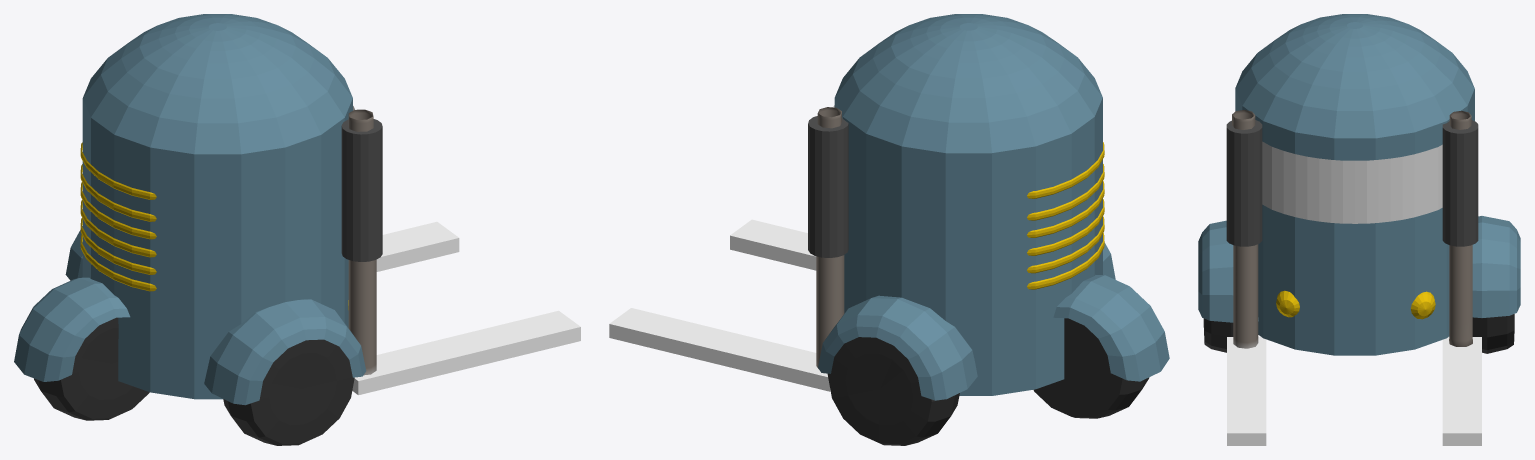
File: montacargas.fbx
The picture shows the model from 3 angles, left to right: view 1: azimuth 30°, elevation 25°; view 2: azimuth 150°, elevation 25°; view 3: azimuth 270°, elevation 25°; orthographic projection. The views are drawn at different scales.
Visible parts, largest first — view 1: Monta1, Monta1.004, Monta9, Monta4, Monta5, Monta6; view 2: Monta1, Monta1.004, Monta9, Monta4, Monta5, Monta6; view 3: Monta1, Monta4, Monta2.001, Monta5, Monta1.004, Monta9, Monta3.
Boxes of the visible parts, x1,y1,x2,y2 form: Monta1: [82, 14, 352, 399]; Monta1.004: [14, 226, 366, 405]; Monta9: [34, 317, 354, 445]; Monta4: [348, 109, 580, 395]; Monta5: [341, 119, 382, 261]; Monta6: [80, 142, 156, 291]; Monta1: [834, 14, 1102, 395]; Monta1.004: [818, 243, 1169, 400]; Monta9: [827, 318, 1149, 445]; Monta4: [609, 107, 844, 391]; Monta5: [808, 116, 848, 257]; Monta6: [1027, 142, 1104, 289]; Monta1: [1235, 14, 1474, 355]; Monta4: [1227, 110, 1481, 445]; Monta2.001: [1262, 141, 1442, 223]; Monta5: [1226, 120, 1478, 246]; Monta1.004: [1198, 216, 1520, 322]; Monta9: [1203, 314, 1514, 353]; Monta3: [1276, 290, 1435, 319].
Bounding box in the file's own units: 269 × 193 × 175.
